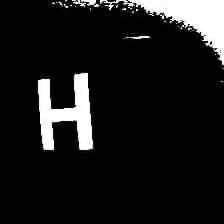LTR_H: (29, 62, 96, 155)
